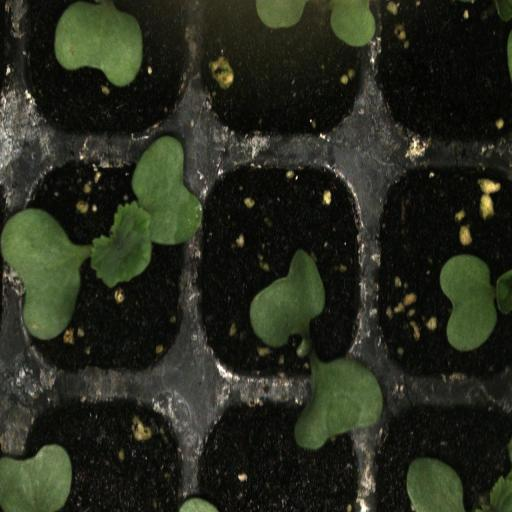seedling: (191, 145, 375, 391), (16, 146, 191, 385)
